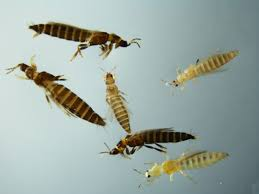Thrips: (8, 60, 106, 137), (30, 13, 158, 63), (149, 148, 233, 192), (85, 128, 201, 155), (164, 52, 230, 96)
